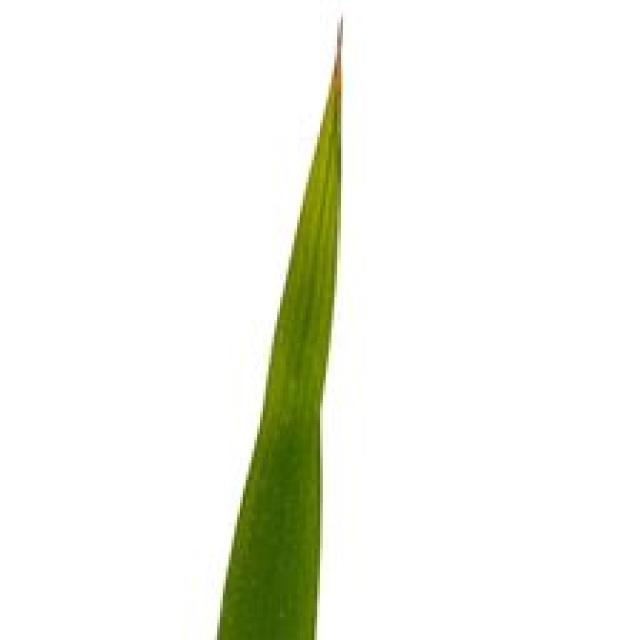Rice___Healthy_Rice_Plant: (216, 15, 341, 637)
